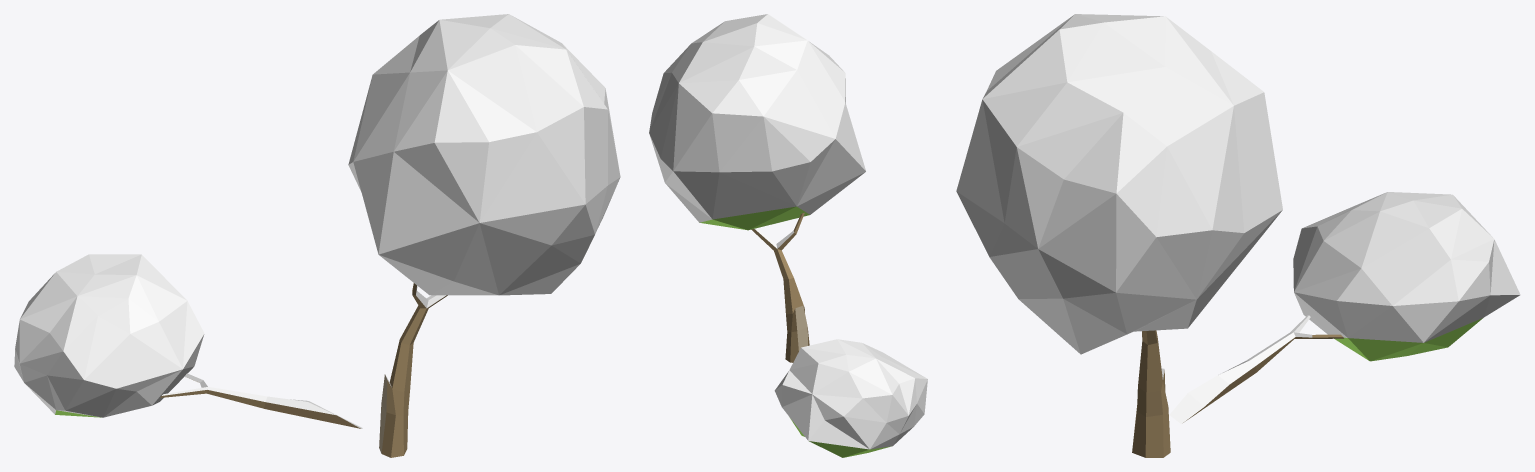
File: Apple_Tree_crk_m_Snow_03_LOD.fbx
3 renders of one model, left to right at view 1: azimuth 30°, elevation 25°; view 2: azimuth 150°, elevation 25°; view 3: azimuth 270°, elevation 25°, orthographic. The views are drawn at different scales.
Parts seen in each view (by area): view 1: Apple_Tree_crk_m_Snow_03_LOD0; view 2: Apple_Tree_crk_m_Snow_03_LOD0; view 3: Apple_Tree_crk_m_Snow_03_LOD0.
Part boxes in pixels (<box>): Apple_Tree_crk_m_Snow_03_LOD0: <box>14,14,620,457</box>; Apple_Tree_crk_m_Snow_03_LOD0: <box>649,14,927,457</box>; Apple_Tree_crk_m_Snow_03_LOD0: <box>956,14,1520,457</box>.
Size of what is drawn, in the model's own units: 827 by 721 by 784.
